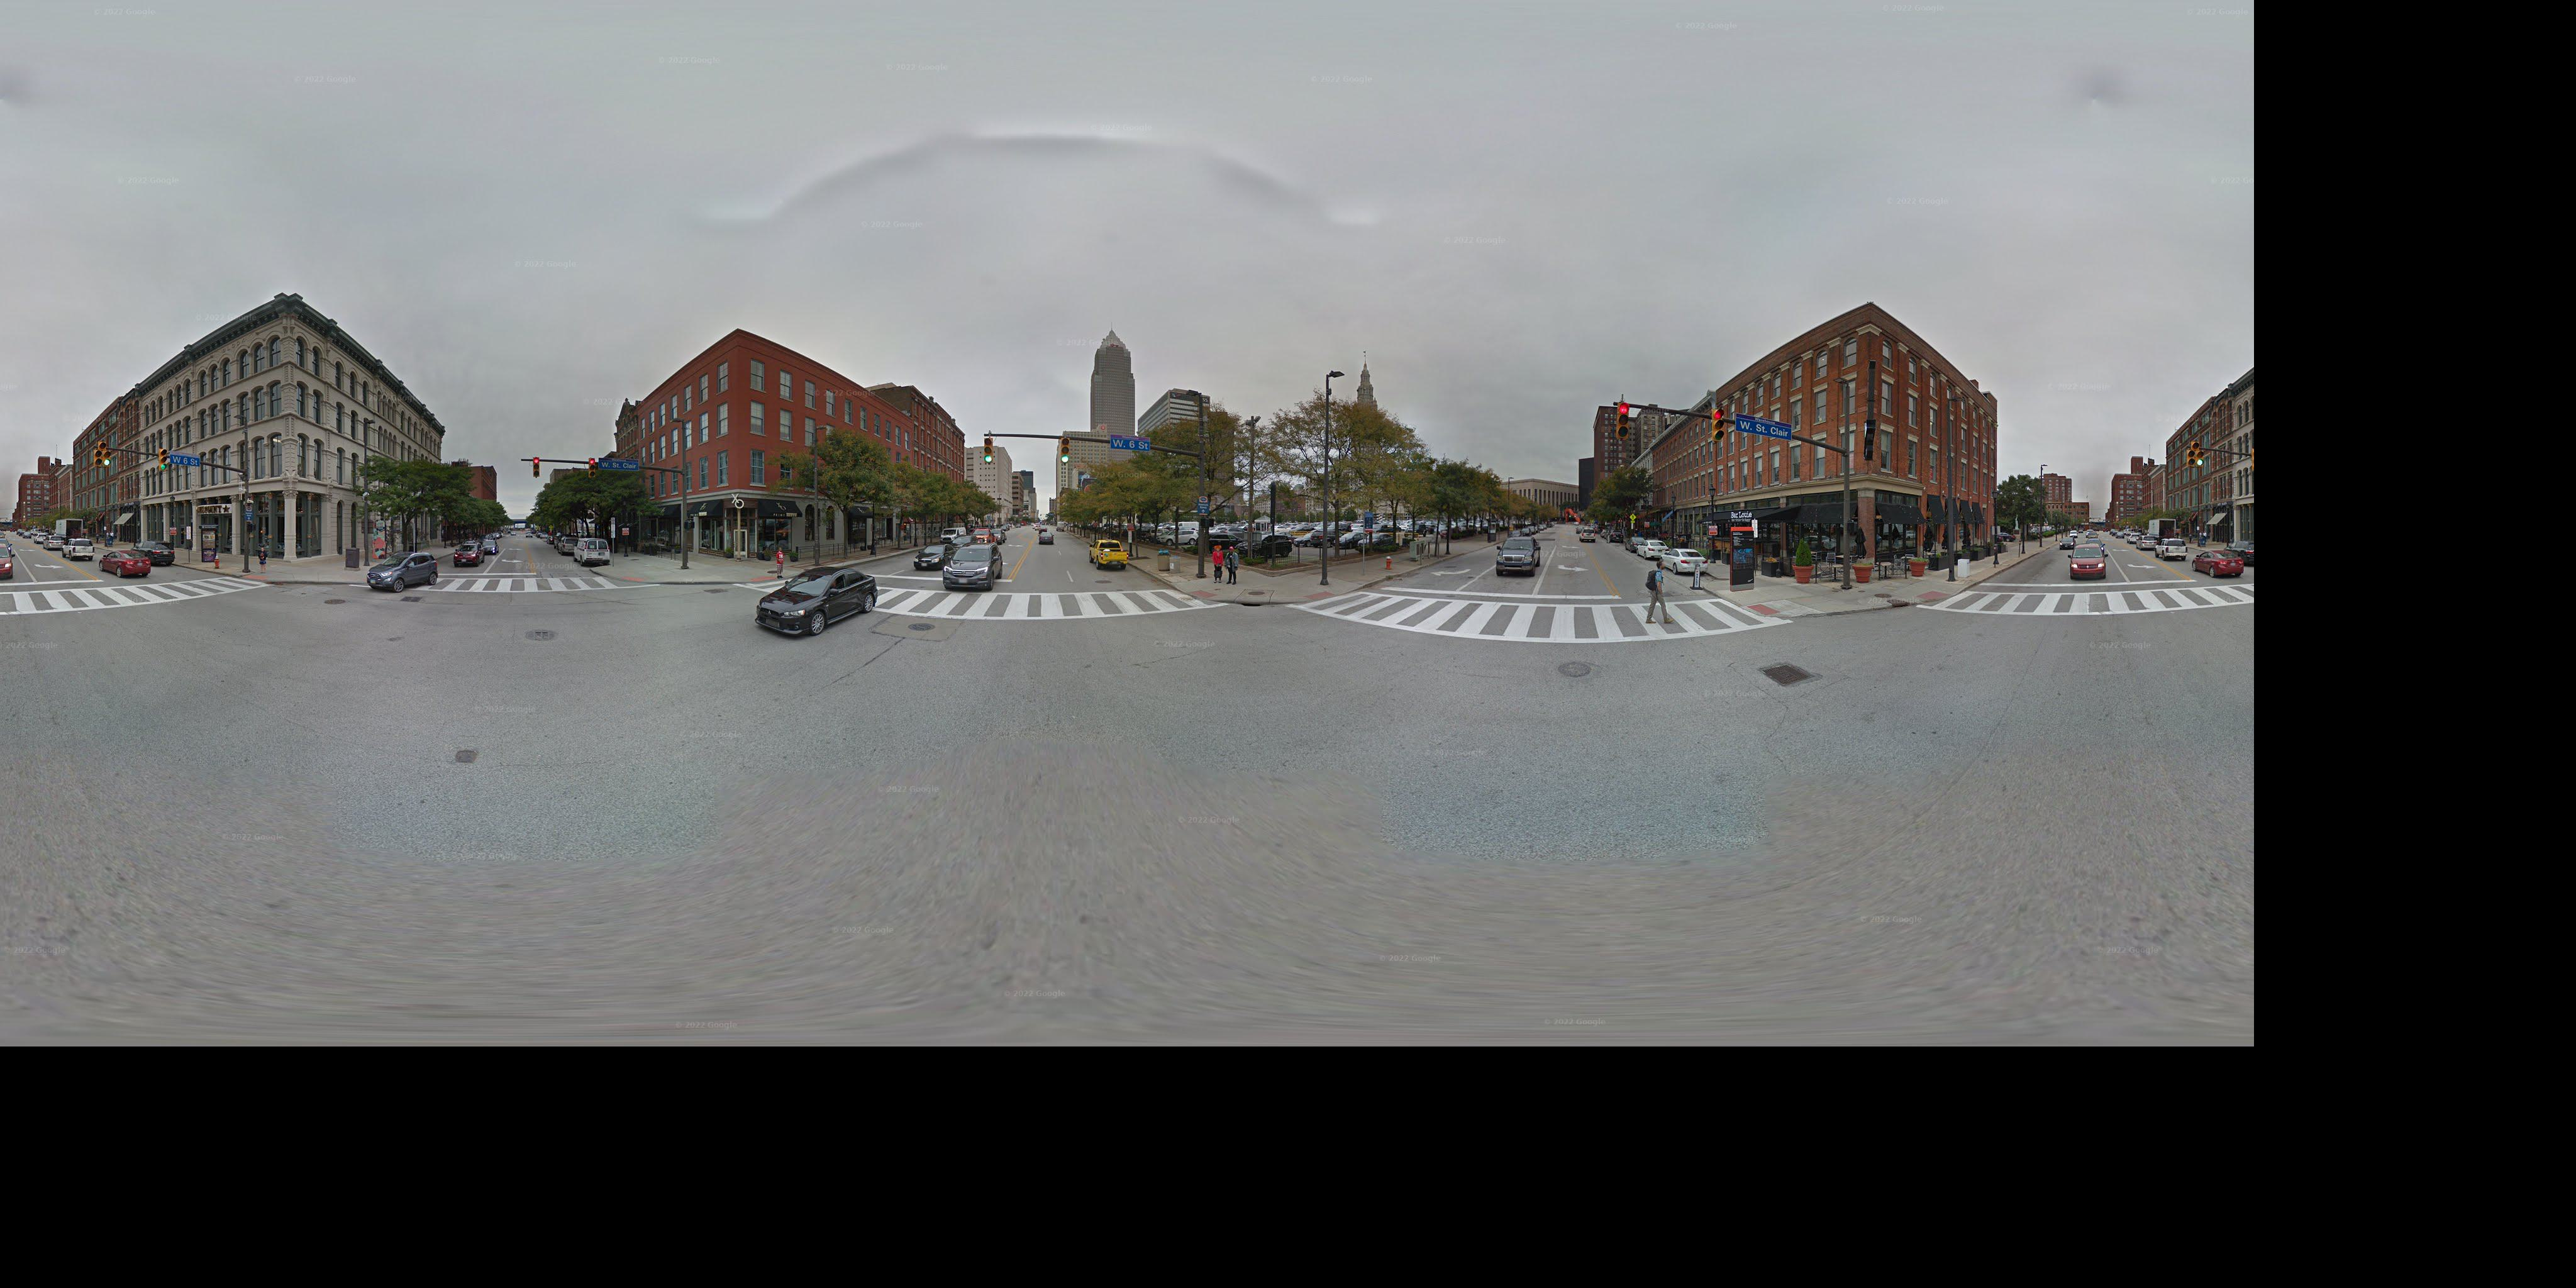Curb Ramp: (1735, 598, 1789, 621), (1295, 585, 1342, 605), (611, 570, 646, 585), (743, 573, 780, 585), (240, 568, 268, 583)
Irregular Ramp: (1911, 585, 1960, 606), (1181, 583, 1216, 606)
